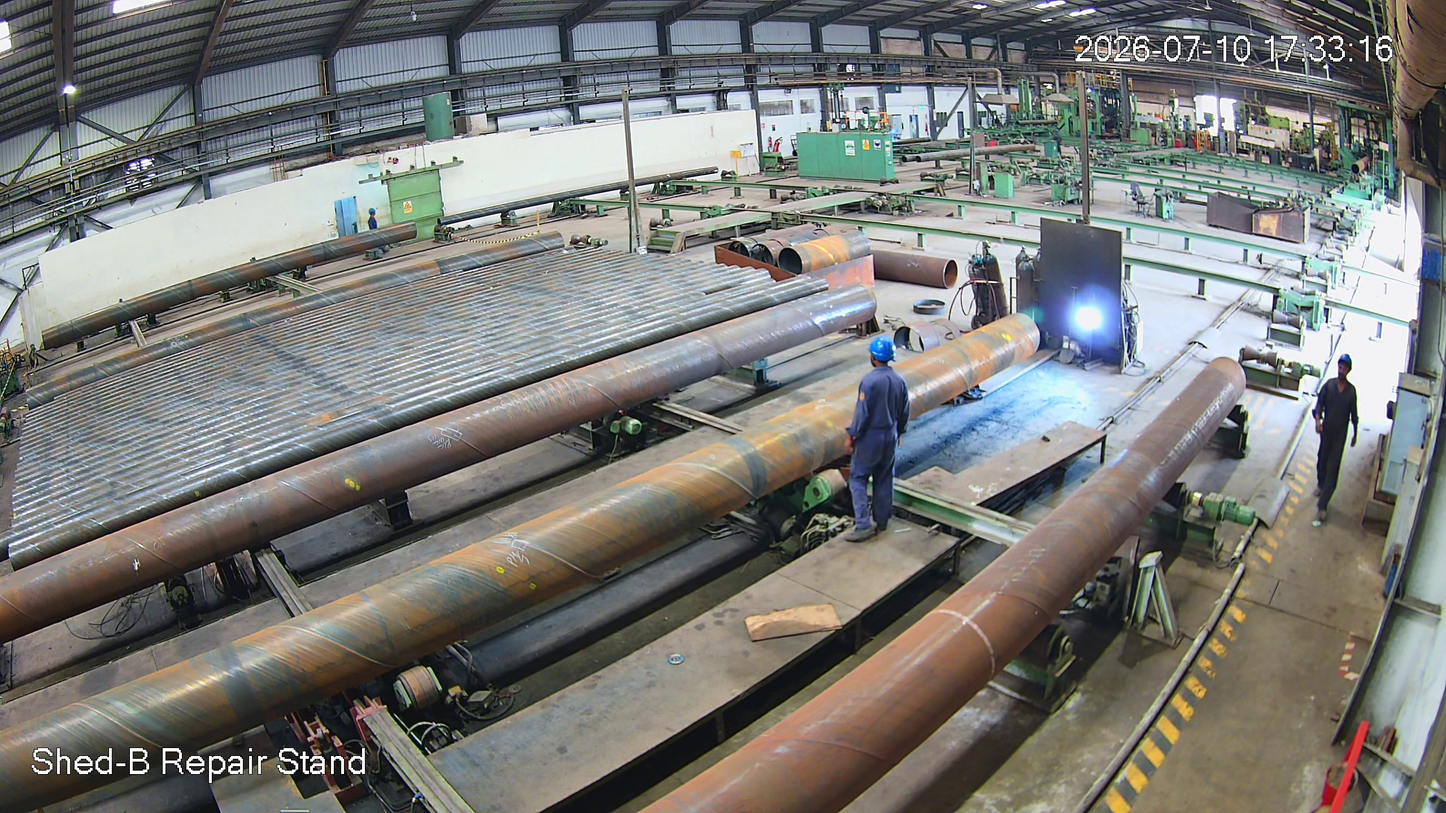Helmet: (866, 331, 898, 387), (1329, 347, 1363, 391)
Person: (1294, 351, 1377, 555), (850, 339, 918, 558)
